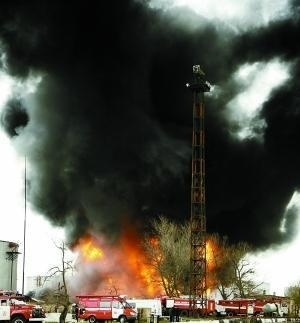fire: (69, 231, 165, 295), (76, 237, 106, 262), (201, 239, 217, 268)
